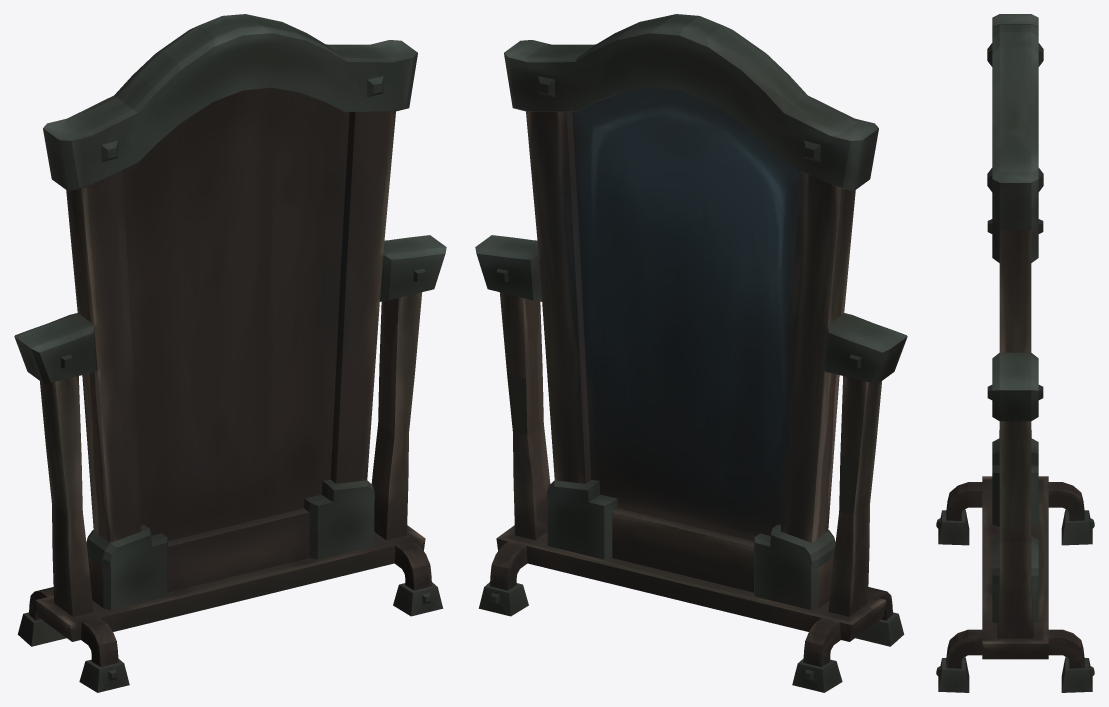
Rendered from SM_lustro.fbx.
3 renders of one model, left to right at view 1: azimuth 30°, elevation 25°; view 2: azimuth 150°, elevation 25°; view 3: azimuth 270°, elevation 25°, orthographic. The views are drawn at different scales.
Parts seen in each view (by area): view 1: lustro; view 2: lustro; view 3: lustro.
Boxes of the visible parts, left/top/right/bottom form: lustro: left=14, top=14, right=446, bottom=692; lustro: left=475, top=14, right=907, bottom=692; lustro: left=936, top=14, right=1094, bottom=692.
Bounding box in the file's own units: 164 × 226 × 56.08.
